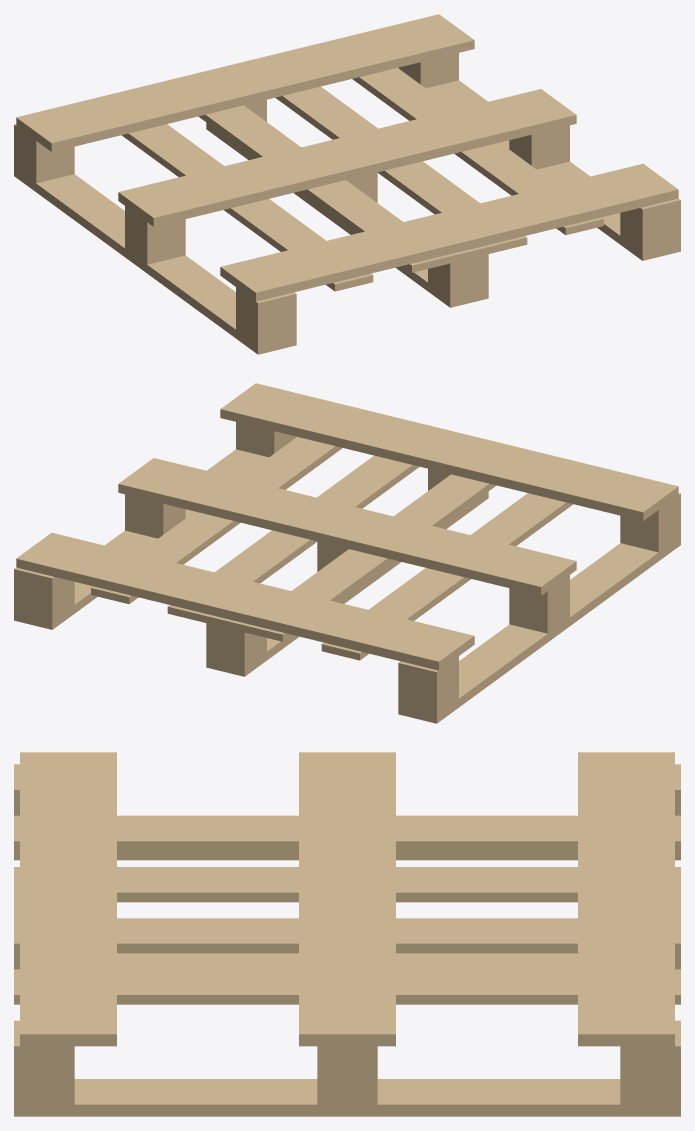
Rendered from Pallet.fbx.
3 views of the same model, one above another, from view 1: azimuth 30°, elevation 25°; view 2: azimuth 150°, elevation 25°; view 3: azimuth 270°, elevation 25° (orthographic). The views are drawn at different scales.
Visible parts, largest first — view 1: Deck_0, Deck_1, Deck_2, Runner_0, DeckThin_0, DeckThin_1, DeckThin_3, DeckThin_2, Runner_2, Block_0, Block_6, Block_1 (+6 smaller); view 2: Deck_2, Deck_0, Deck_1, Runner_0, DeckThin_0, DeckThin_1, DeckThin_3, DeckThin_2, Runner_2, Block_2, Block_8, Block_1 (+6 smaller); view 3: Deck_0, Deck_1, Deck_2, Runner_2, DeckThin_0, DeckThin_2, DeckThin_3, DeckThin_1, Runner_1, Runner_0, Block_6, Block_8 (+1 smaller).
Boxes of the visible parts, x1,y1,x2,y2 form: Deck_0: [220, 163, 678, 301]; Deck_1: [118, 89, 576, 226]; Deck_2: [16, 14, 474, 151]; Runner_0: [14, 167, 296, 354]; DeckThin_0: [121, 124, 373, 291]; DeckThin_1: [198, 105, 450, 272]; DeckThin_3: [352, 68, 603, 235]; DeckThin_2: [275, 86, 527, 253]; Runner_2: [426, 80, 680, 260]; Block_0: [236, 287, 296, 345]; Block_6: [620, 198, 680, 251]; Block_1: [125, 206, 185, 264]; Deck_2: [16, 532, 474, 670]; Deck_0: [220, 383, 678, 520]; Deck_1: [118, 458, 576, 595]; Runner_0: [398, 536, 680, 723]; DeckThin_0: [321, 493, 573, 660]; DeckThin_1: [244, 474, 496, 641]; DeckThin_3: [91, 437, 342, 604]; DeckThin_2: [167, 455, 419, 622]; Runner_2: [14, 449, 268, 629]; Block_2: [398, 656, 458, 714]; Block_8: [14, 567, 74, 620]; Block_1: [509, 575, 569, 633]; Deck_0: [20, 752, 116, 1046]; Deck_1: [299, 752, 395, 1046]; Deck_2: [578, 752, 674, 1046]; Runner_2: [14, 1079, 680, 1116]; DeckThin_0: [14, 815, 680, 850]; DeckThin_2: [14, 918, 680, 953]; DeckThin_3: [14, 969, 680, 1004]; DeckThin_1: [14, 867, 680, 902]; Runner_1: [117, 953, 577, 969]; Runner_0: [14, 851, 680, 860]; Block_6: [14, 1020, 74, 1104]; Block_8: [620, 1020, 680, 1104].
Size of the model in its own units: 1.1 by 0.15 by 1.1.
